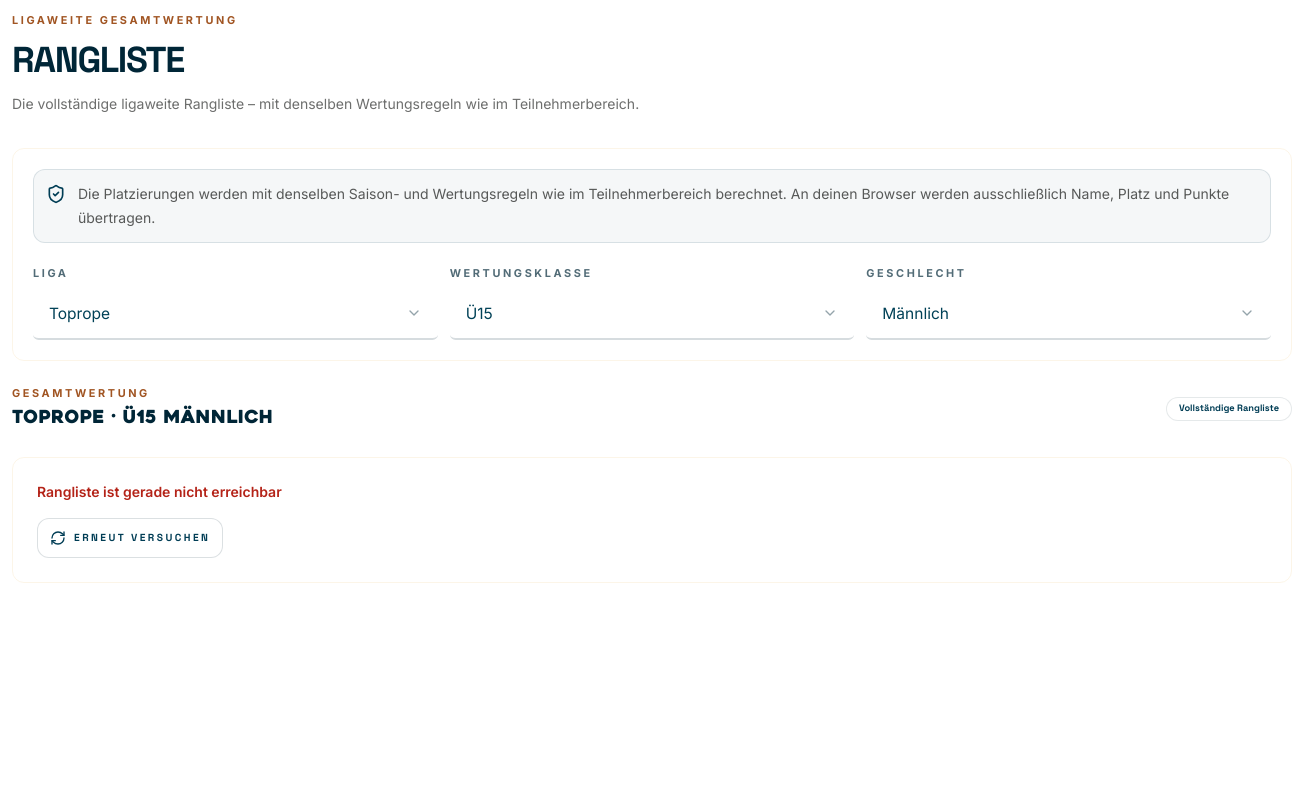
Scenario: GymRankings › shows API errors and supports a manual retry
Expected: the text "Rangliste ist gerade nicht erreichbar" is shown, x1=37 y1=483 x2=282 y2=500
Click the button "Erneut versuchen" at (130, 538), box x1=37 y1=518 x2=223 y2=558
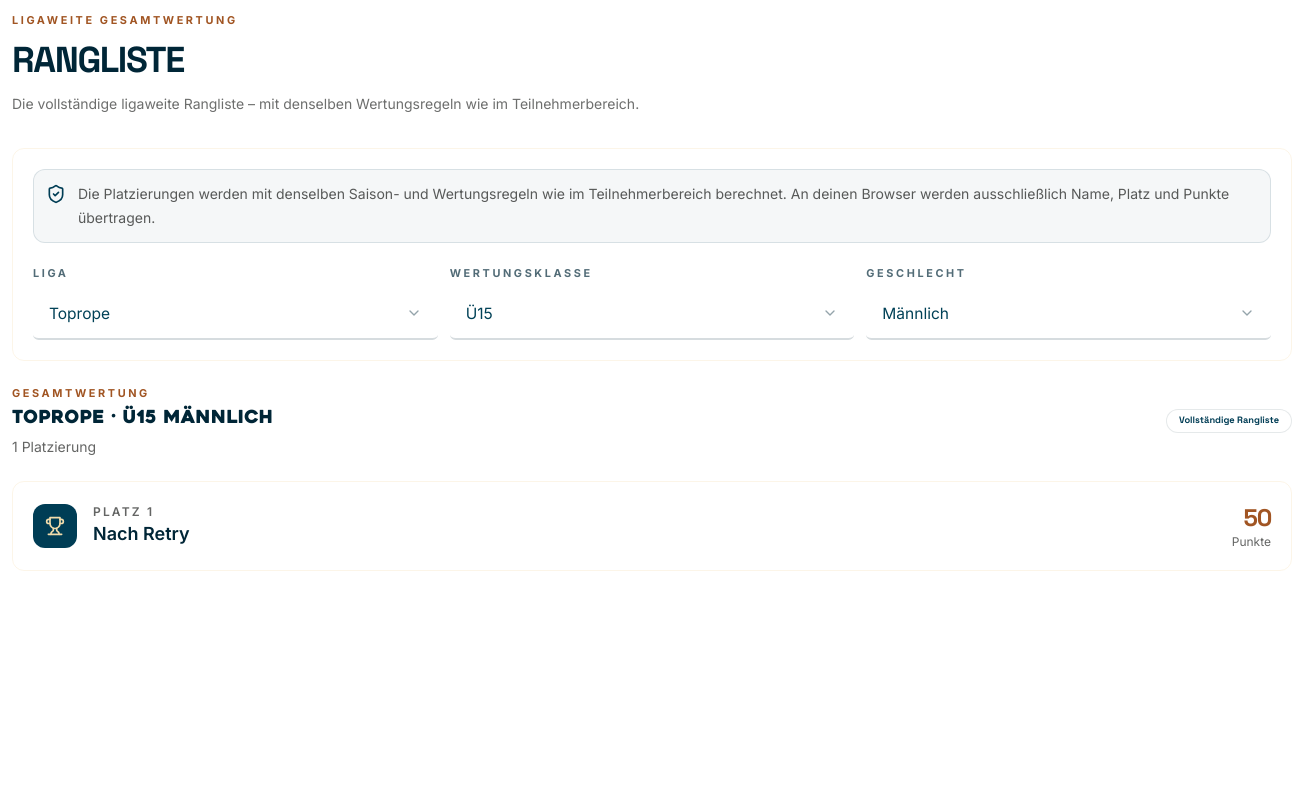
Expected: the text "Nach Retry" is shown, x1=93 y1=523 x2=190 y2=544
